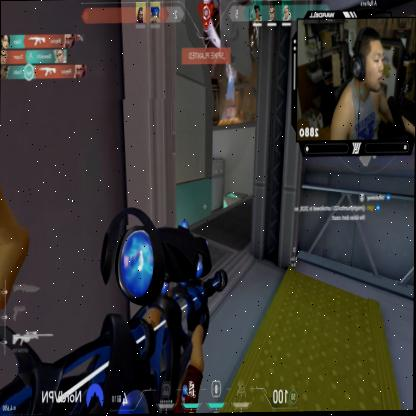streamer: (329, 25, 416, 140)
